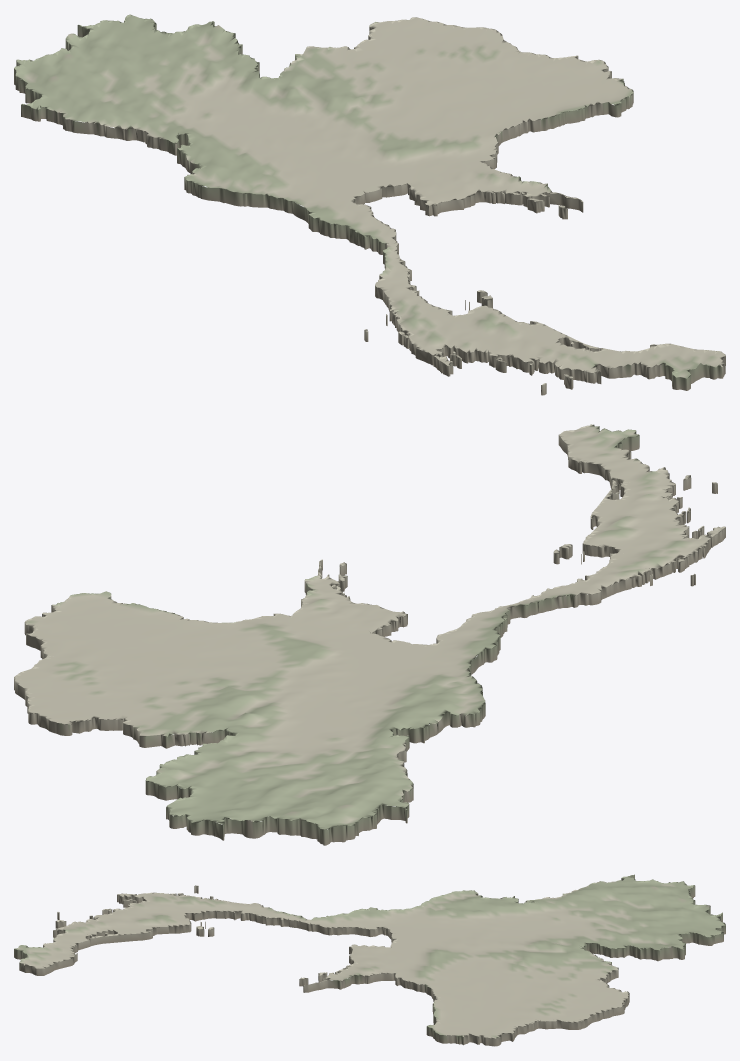
File: th-desktop.glb
3 views of the same model, one above another, from view 1: azimuth 30°, elevation 25°; view 2: azimuth 150°, elevation 25°; view 3: azimuth 270°, elevation 25° (orthographic). The views are drawn at different scales.
Size of the model in its own units: 54.32 by 1.89 by 99.98.
